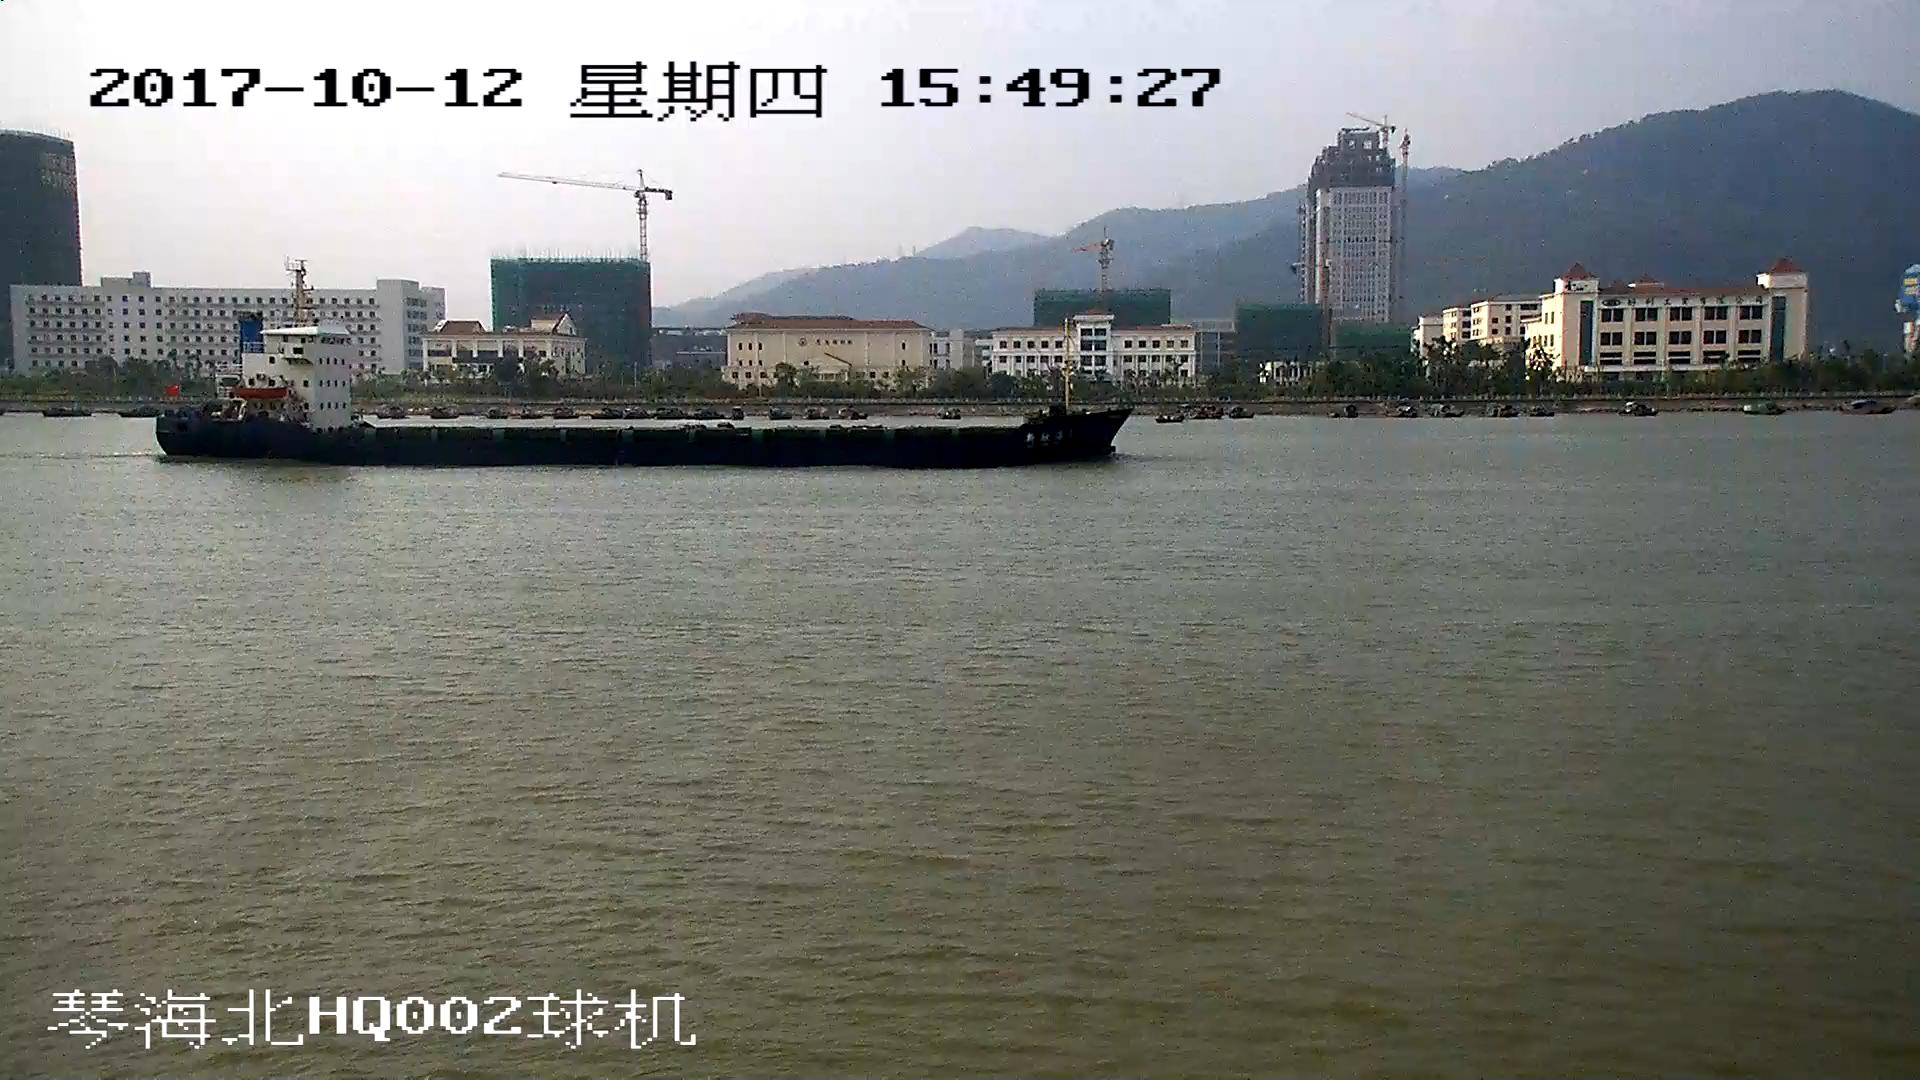general cargo ship: (155, 260, 1130, 466)
